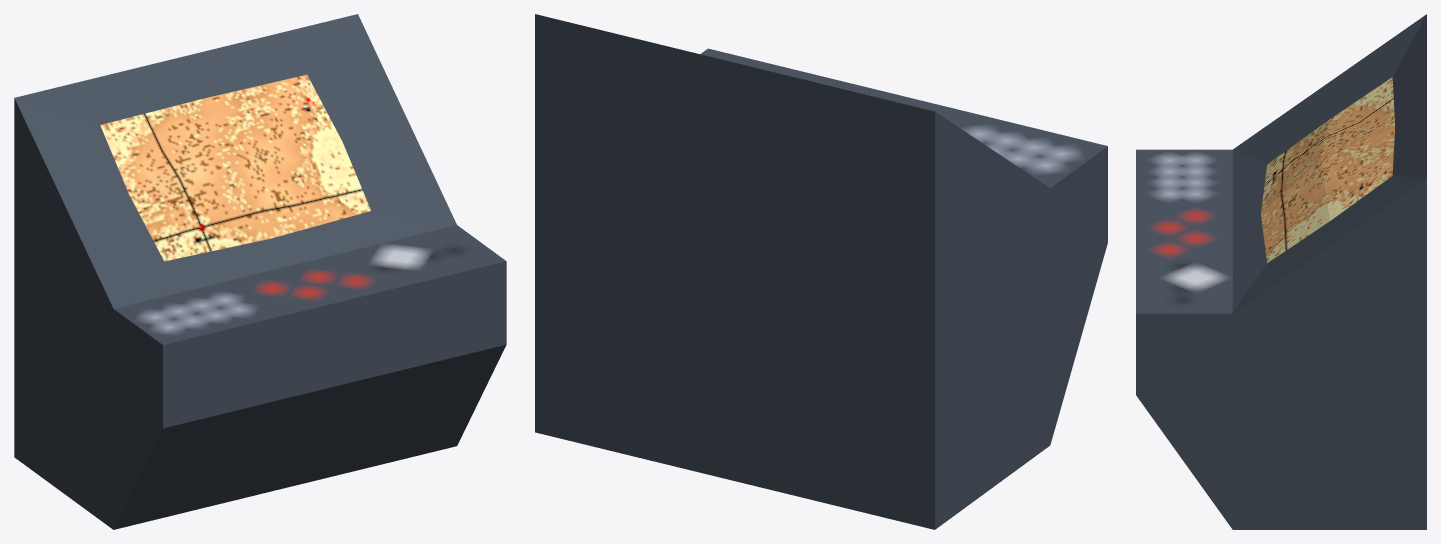
Rendered from controlpanel.fbx.
3 views of the same model, side by side, from view 1: azimuth 30°, elevation 25°; view 2: azimuth 150°, elevation 25°; view 3: azimuth 270°, elevation 25° (orthographic). The views are drawn at different scales.
Parts seen in each view (by area): view 1: Cube; view 2: Cube; view 3: Cube.
Boxes of the visible parts, <box> form: Cube: <box>14,14,506,529</box>; Cube: <box>535,14,1107,529</box>; Cube: <box>1136,14,1426,529</box>.
Size of the model in its own units: 150 by 200 by 200.
1 material, 1 textured.
